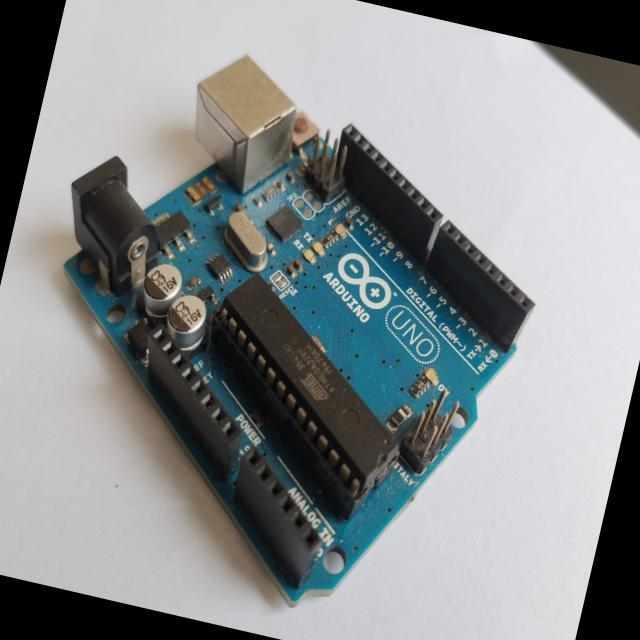arduino: (0, 19, 578, 640)
